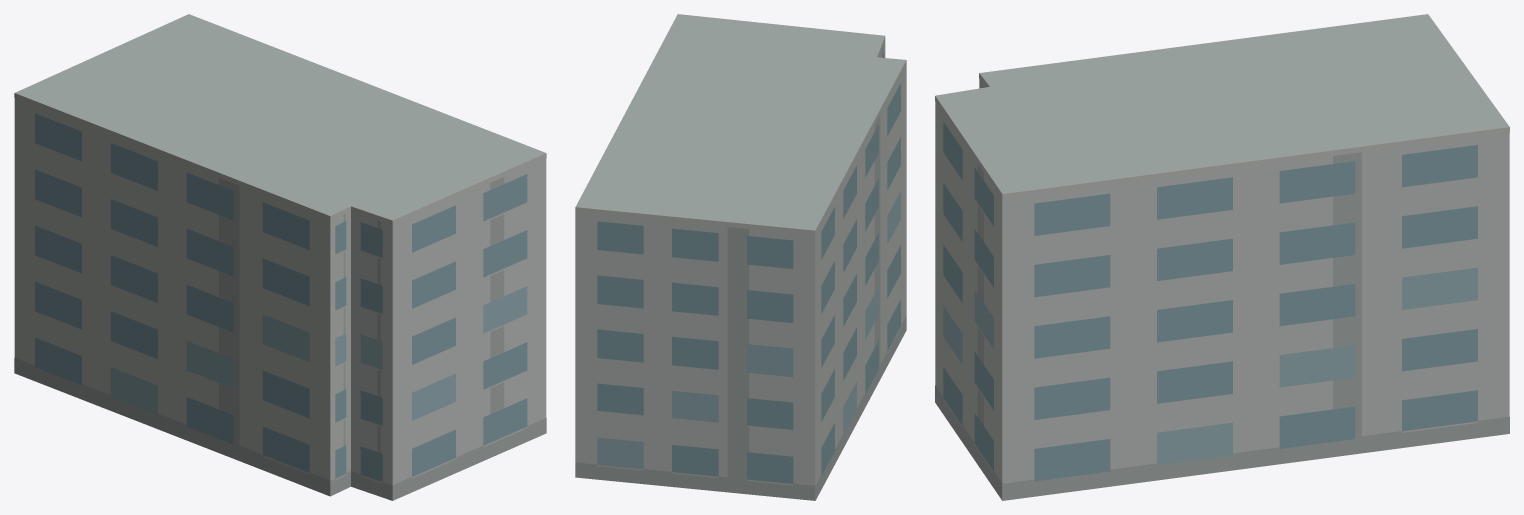
The model's file is survey-upis-33008438.glb.
The picture shows the model from 3 angles, left to right: view 1: azimuth 30°, elevation 25°; view 2: azimuth 150°, elevation 25°; view 3: azimuth 270°, elevation 25°; orthographic projection. The views are drawn at different scales.
Visible parts, largest first — view 1: survey-upis-33008438.tmp; view 2: survey-upis-33008438.tmp; view 3: survey-upis-33008438.tmp.
Part boxes in pixels (x1,y1,x2,y2): survey-upis-33008438.tmp: [14, 14, 546, 500]; survey-upis-33008438.tmp: [575, 14, 906, 500]; survey-upis-33008438.tmp: [935, 14, 1509, 500].
Size of the model in its own units: 16.7 by 13.25 by 22.51.
